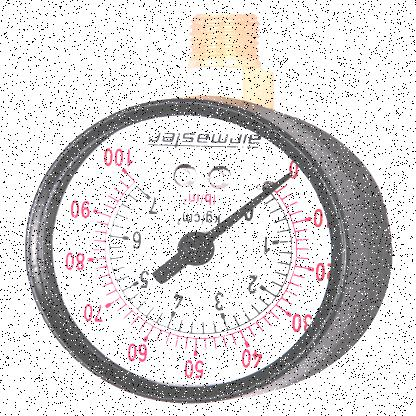needle: (205, 171, 293, 243)
